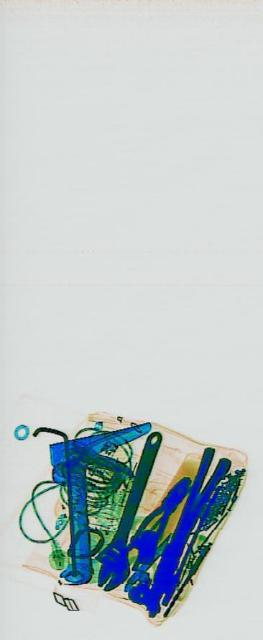Knife: (48, 416, 157, 590)
Pliers: (122, 457, 191, 577)
Wrench: (88, 403, 167, 611)
